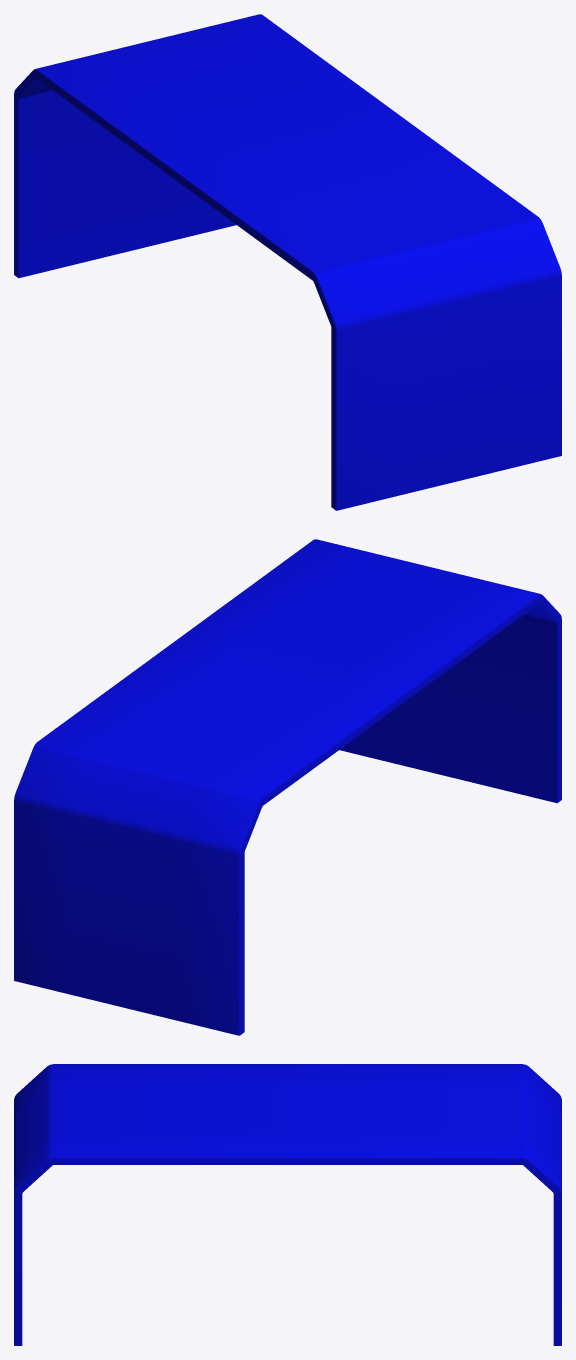
File: Table_Large.FBX
3 renders of one model, top to bottom at view 1: azimuth 30°, elevation 25°; view 2: azimuth 150°, elevation 25°; view 3: azimuth 270°, elevation 25°, orthographic. The views are drawn at different scales.
Visible parts, largest first — view 1: Table_Low; view 2: Table_Low; view 3: Table_Low.
Part boxes in pixels (box(x1,y1,x2,y2)): Table_Low: box(14, 14, 561, 510); Table_Low: box(14, 539, 561, 1035); Table_Low: box(14, 1064, 561, 1345).
Size of the model in its own units: 28.12 by 26.4 by 69.6.
